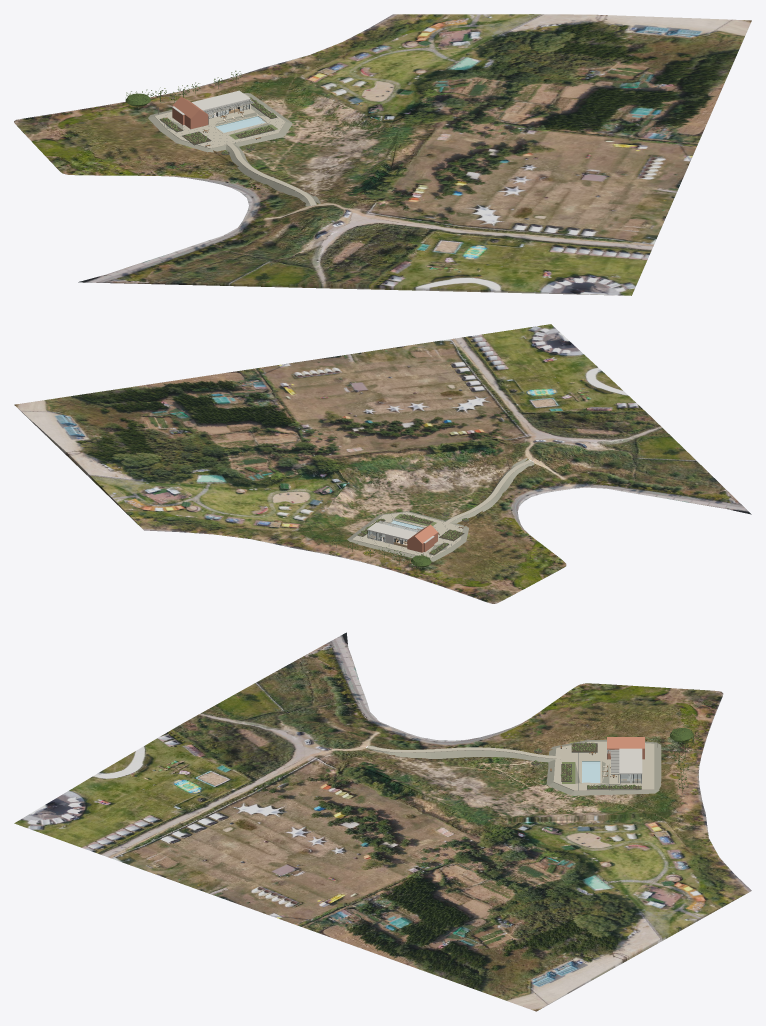
Rendered from option-01.glb.
3 views of the same model, one above another, from view 1: azimuth 30°, elevation 25°; view 2: azimuth 150°, elevation 25°; view 3: azimuth 270°, elevation 25° (orthographic). The views are drawn at different scales.
Visible parts, largest first — view 1: option-01__ENV_P01_ground_appearance.002, option-01__Limestone, option-01__Gravel, option-01__brick, option-01__concrete, option-01__Soil; view 2: option-01__ENV_P01_ground_appearance.002, option-01__Limestone, option-01__Gravel, option-01__concrete, option-01__brick; view 3: option-01__ENV_P01_ground_appearance.002, option-01__Limestone, option-01__Gravel, option-01__concrete.
Part boxes in pixels (box(x1,y1,x2,y2)): option-01__ENV_P01_ground_appearance.002: box(14, 14, 751, 295); option-01__Limestone: box(154, 94, 316, 205); option-01__Gravel: box(148, 93, 320, 206); option-01__brick: box(172, 96, 208, 128); option-01__concrete: box(172, 90, 250, 114); option-01__Soil: box(160, 98, 276, 154); option-01__ENV_P01_ground_appearance.002: box(14, 324, 751, 603); option-01__Limestone: box(352, 460, 532, 558); option-01__Gravel: box(347, 458, 534, 561); option-01__concrete: box(367, 522, 434, 544); option-01__brick: box(407, 524, 437, 552); option-01__ENV_P01_ground_appearance.002: box(14, 632, 751, 1011); option-01__Limestone: box(367, 741, 654, 790); option-01__Gravel: box(365, 740, 661, 795); option-01__concrete: box(619, 748, 642, 783).
Bounding box in the file's own units: 355 × 9.23 × 286.
39 materials, 14 textured.
